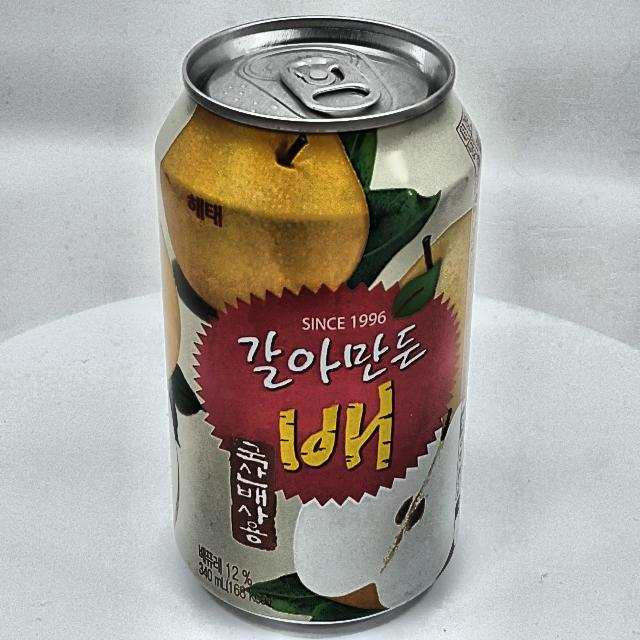galamandeunbae: (155, 18, 482, 628)
